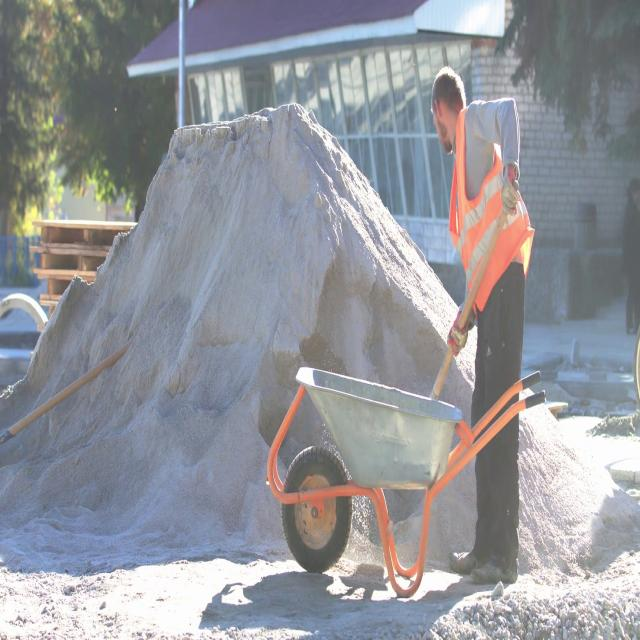gloved: (447, 300, 476, 356)
